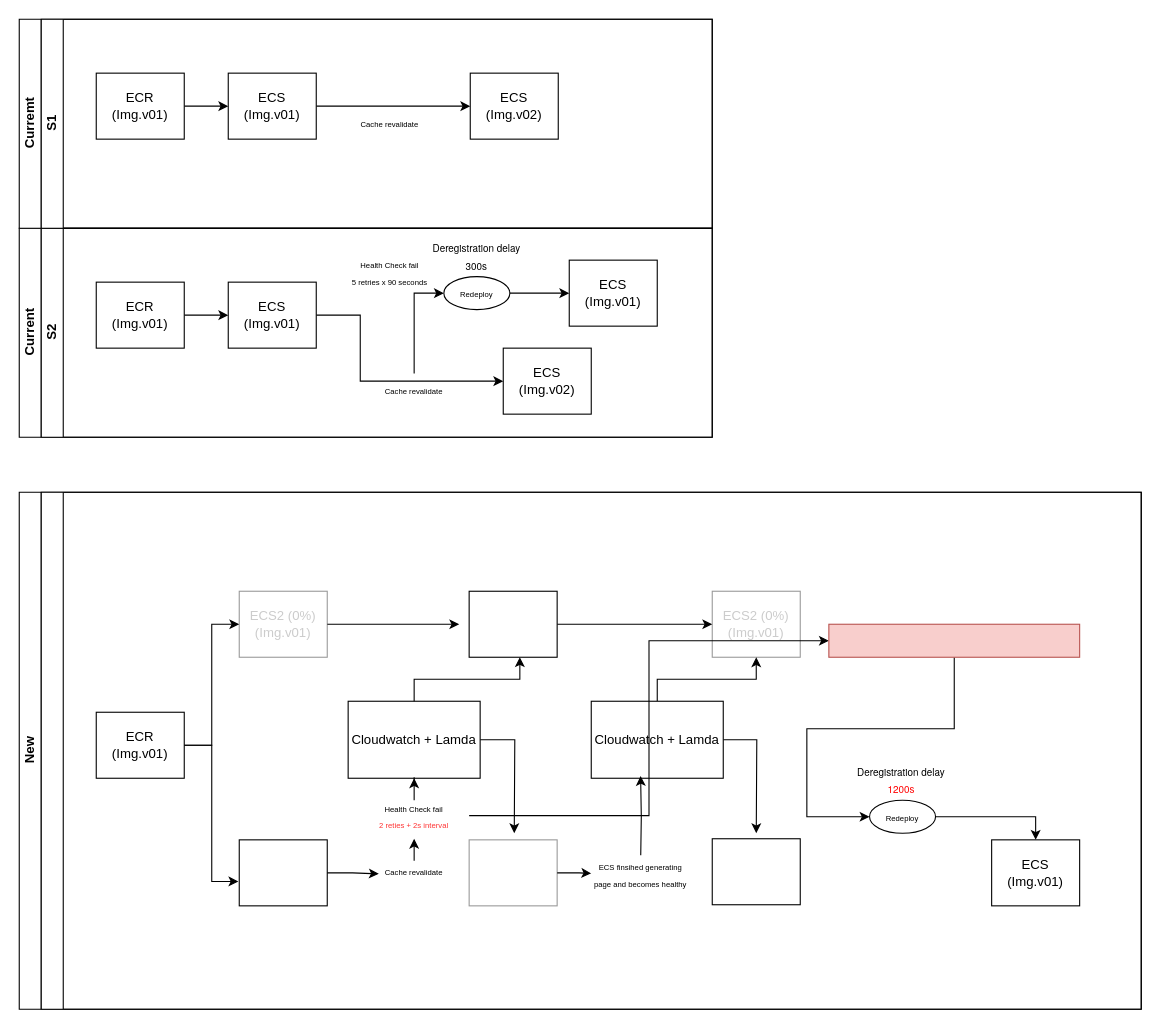
This 1161x1029 diagram has some shape labels left out. Each missing label, with the centre of its shape:
"ECS (0%) (Img.v01)" belongs at point (512, 872).
"ECS (100%) (Img.v01)" belongs at point (282, 872).
"ECS (100%) (Img.v02)" belongs at point (755, 871).
"ECS2 (100%) (Img.v01)" belongs at point (512, 623).
"Hopefully will not happen" belongs at point (954, 640).
